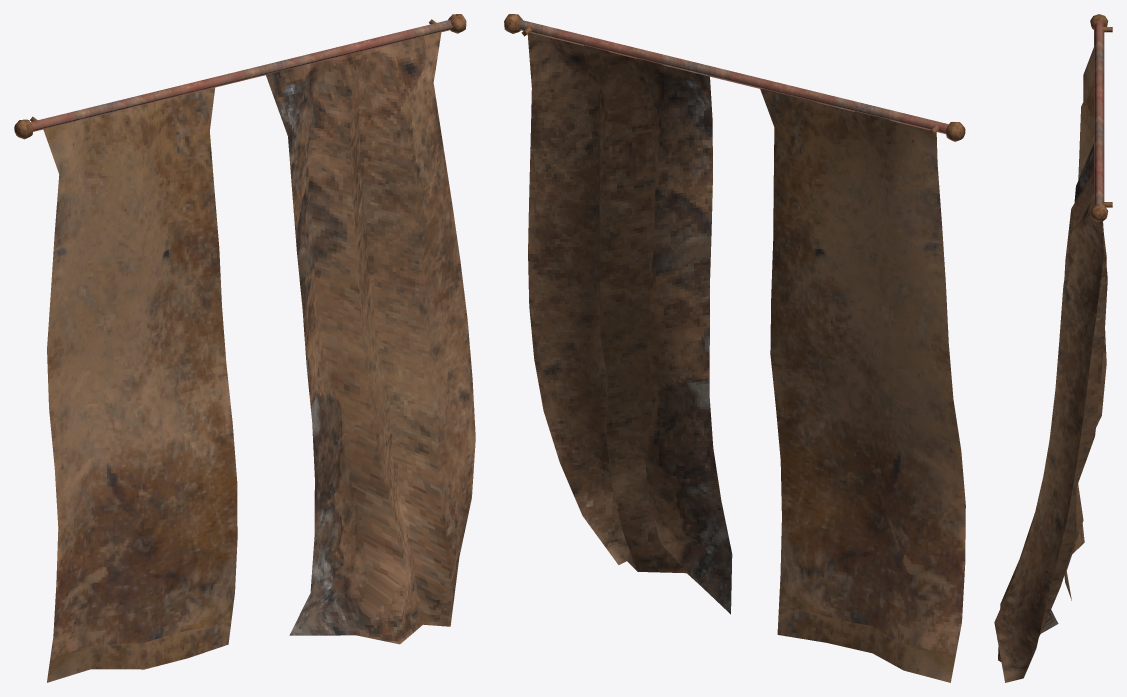
Rendered from _Curtains_2.FBX.
3 renders of one model, left to right at view 1: azimuth 30°, elevation 25°; view 2: azimuth 150°, elevation 25°; view 3: azimuth 270°, elevation 25°, orthographic. The views are drawn at different scales.
Visible parts, largest first — view 1: _Curtains_2; view 2: _Curtains_2; view 3: _Curtains_2.
Part boxes in pixels (box(x1,y1,x2,y2)): _Curtains_2: box(14, 14, 475, 682); _Curtains_2: box(504, 14, 965, 682); _Curtains_2: box(994, 14, 1112, 682).
Size of the model in its own units: 213 by 253 by 53.68.
Materials: 4 (4 with a texture image).
